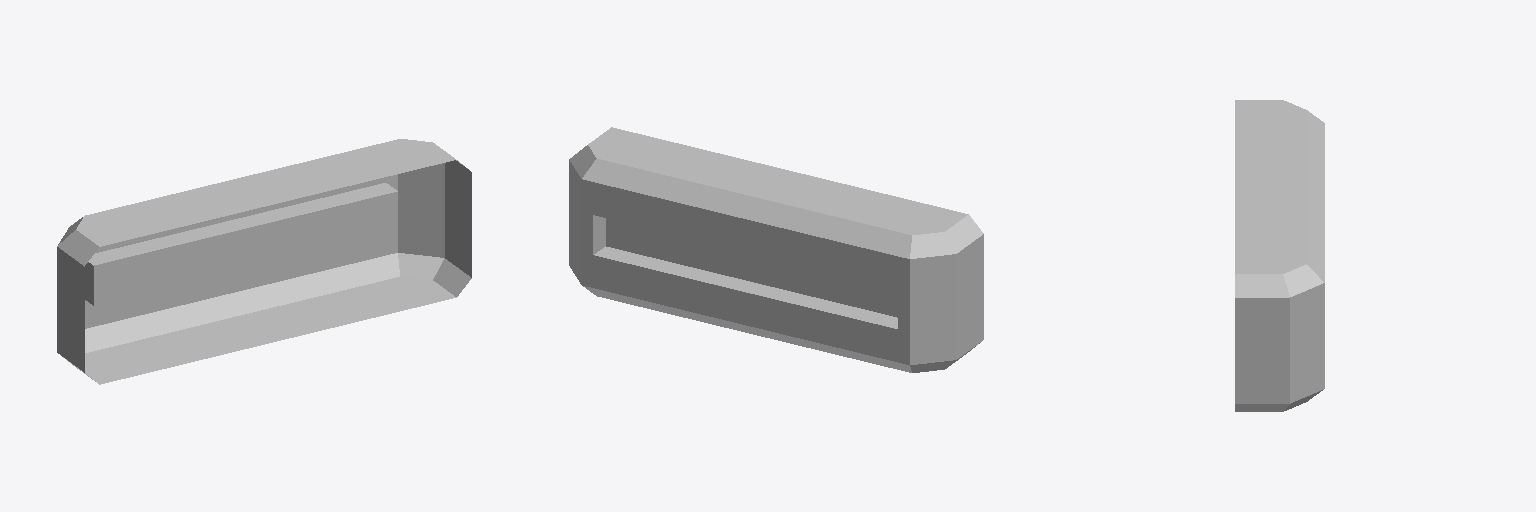
Rendered from Tower_buildIn.obj.
The picture shows the model from 3 angles: view 1: azimuth 30°, elevation 25°; view 2: azimuth 150°, elevation 25°; view 3: azimuth 270°, elevation 25°; orthographic projection.
Parts seen in each view (by area): view 1: pCube20; view 2: pCube20; view 3: pCube20.
Boxes of the visible parts, x1=… form: pCube20: x1=57, y1=139, x2=471, y2=384; pCube20: x1=569, y1=127, x2=983, y2=372; pCube20: x1=1235, y1=100, x2=1324, y2=411.
Bounding box in the file's own units: 29.42 × 10 × 5.86.